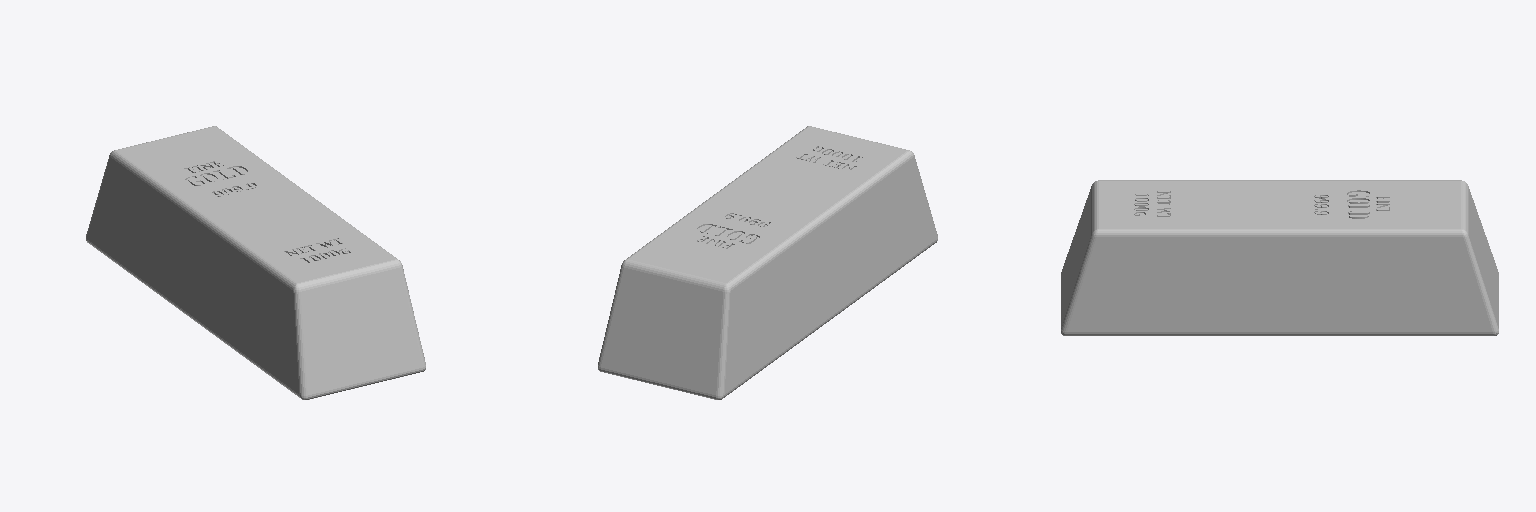
The model's file is gold.obj.
The picture shows the model from 3 angles: view 1: azimuth 30°, elevation 25°; view 2: azimuth 150°, elevation 25°; view 3: azimuth 270°, elevation 25°; orthographic projection.
Parts seen in each view (by area): view 1: Gold-Bar; view 2: Gold-Bar; view 3: Gold-Bar.
Part boxes in pixels (x1,y1,x2,y2): Gold-Bar: (86,126,425,399); Gold-Bar: (598,126,937,399); Gold-Bar: (1061,180,1498,335).
Bounding box in the file's own units: 63.74 × 49.39 × 192.